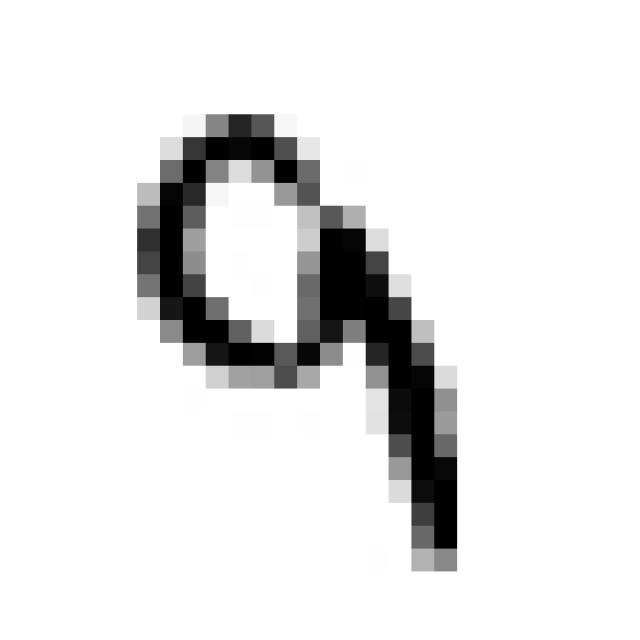9 -nine-: (110, 78, 483, 582)
